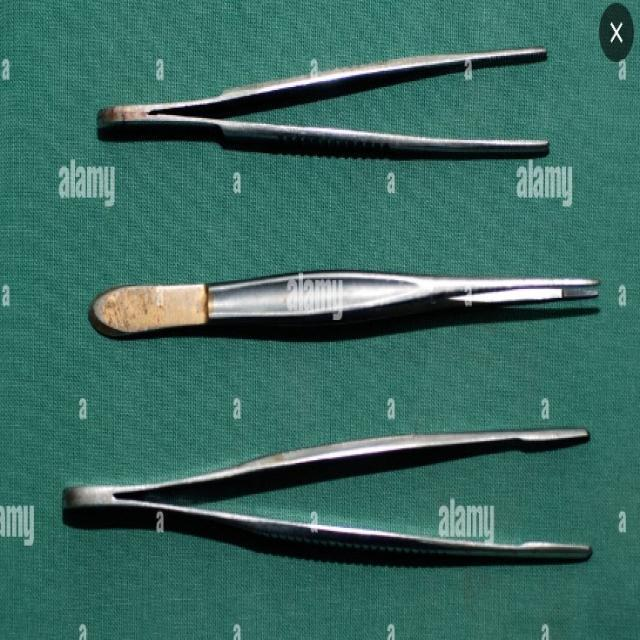Disscting Forceps -Plain-: (56, 419, 604, 574), (88, 39, 552, 162), (94, 260, 605, 348)
